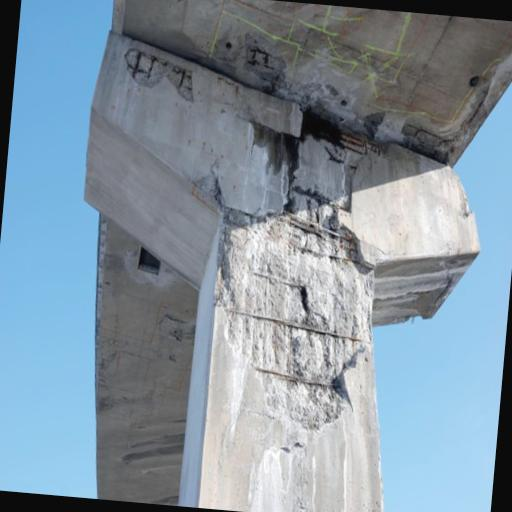spalling: (221, 111, 373, 432), (126, 46, 197, 108), (241, 33, 287, 83)
